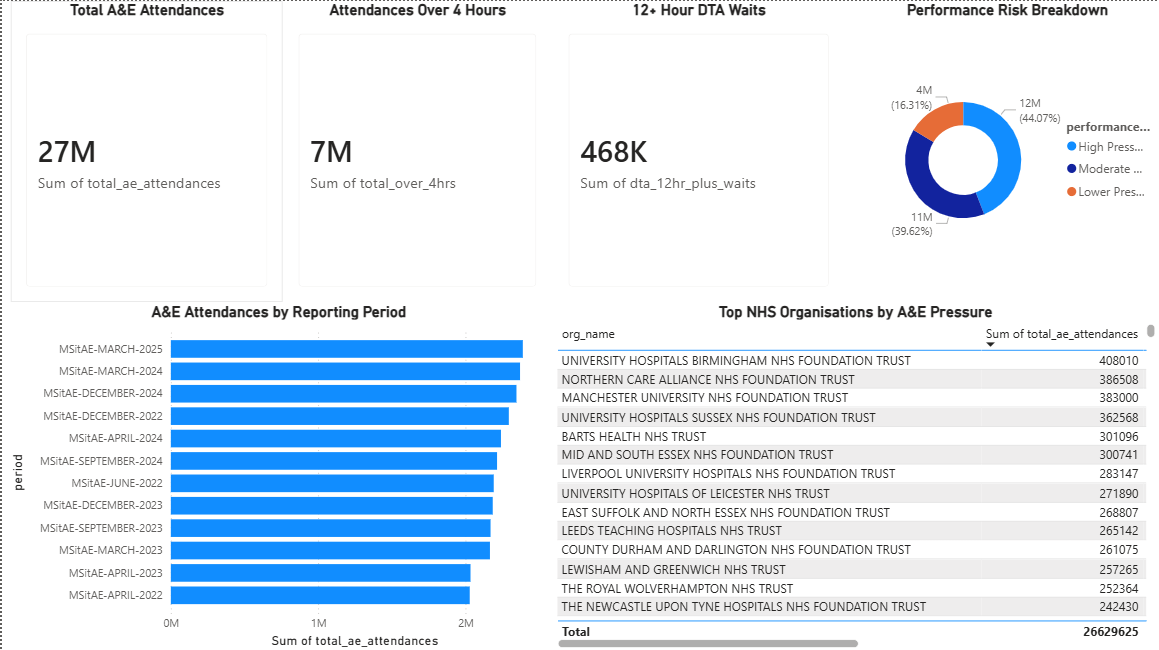

The dashboard page shown, as its layout file describes it:
{"tool":"powerbi","page":{"name":"Page 1","canvas":[1280,720],"ordinal":0},"visuals":[{"type":"cardVisual","title":"Total A&E Attendances","fields":{"Data":["Sum(cleaned_ae_performance.total_ae_attendances)"]},"box":[9.6,0,301.9,333.4],"z":0},{"type":"cardVisual","title":"Attendances Over 4 Hours","fields":{"Data":["Sum(cleaned_ae_performance.total_over_4hrs)"]},"box":[311.5,0,297.8,333.4],"z":1000},{"type":"cardVisual","title":"12+ Hour DTA Waits","fields":{"Data":["Sum(cleaned_ae_performance.dta_12hr_plus_waits)"]},"box":[609.3,0,322.5,333.4],"z":2000},{"type":"donutChart","title":"Performance Risk Breakdown","fields":{"Category":["cleaned_ae_performance.performance_risk"],"Y":["Sum(cleaned_ae_performance.total_ae_attendances)"]},"box":[975.6,0,304.6,333.4],"z":3000},{"type":"tableEx","title":"Top NHS Organisations by A&E Pressure","fields":{"Values":["cleaned_ae_performance.org_name","Sum(cleaned_ae_performance.total_ae_attendances)","Sum(cleaned_ae_performance.total_over_4hrs)","Avg(cleaned_ae_performance.over_4hrs_rate_pct)","Sum(cleaned_ae_performance.dta_12hr_plus_waits)","cleaned_ae_performance.performance_risk"]},"box":[609,360,671.3,360],"z":4000},{"type":"clusteredBarChart","title":"A&E Attendances by Reporting Period","fields":{"Y":["Sum(cleaned_ae_performance.total_ae_attendances)"],"Category":["cleaned_ae_performance.period"]},"box":[4.1,360,605,360],"z":5000}]}

Visuals, with their boxes in screenshot pixels (x1, y1, x2, y2), scaled from the page's 1280x720 canvas onto the 1159x650 screenshot:
"Total A&E Attendances" cardVisual: BBox(9, 0, 282, 301)
"Attendances Over 4 Hours" cardVisual: BBox(282, 0, 552, 301)
"12+ Hour DTA Waits" cardVisual: BBox(552, 0, 844, 301)
"Performance Risk Breakdown" donutChart: BBox(883, 0, 1158, 301)
"Top NHS Organisations by A&E Pressure" tableEx: BBox(551, 325, 1158, 649)
"A&E Attendances by Reporting Period" clusteredBarChart: BBox(4, 325, 552, 649)
